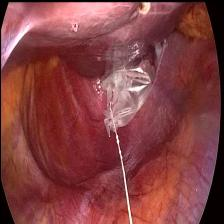Specimen Bag: (85, 34, 168, 156)
